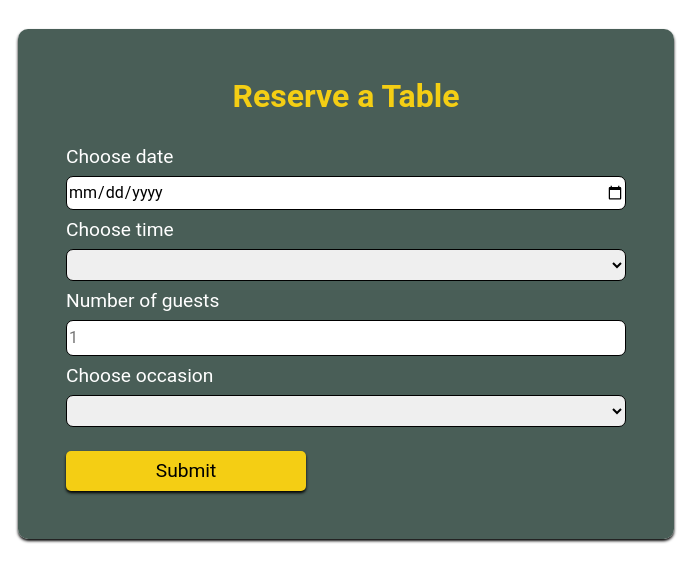
Test: Guests validation [All Invalid] › minimum
The width and height of the screenshot is (693, 573).
In the number field labelled "Number of guests": (346, 338) [66,320,626,356], type "0"
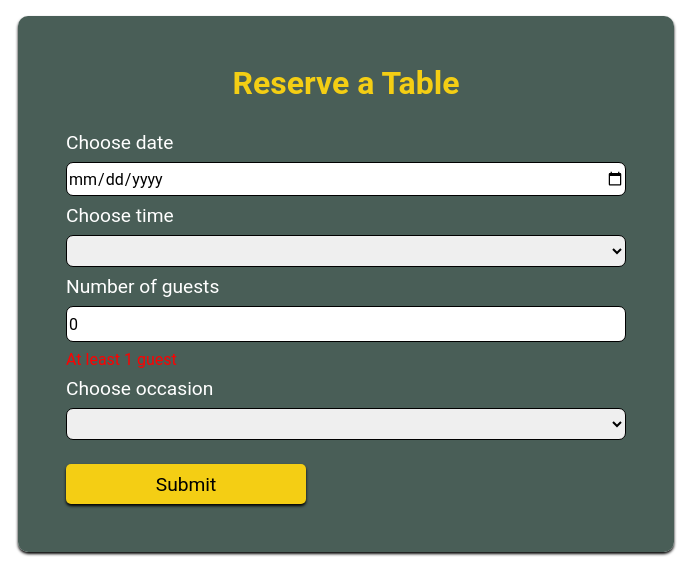
Result: the text with test id "guests-error" reads "At least 1 guest" at [66,350,177,369]
